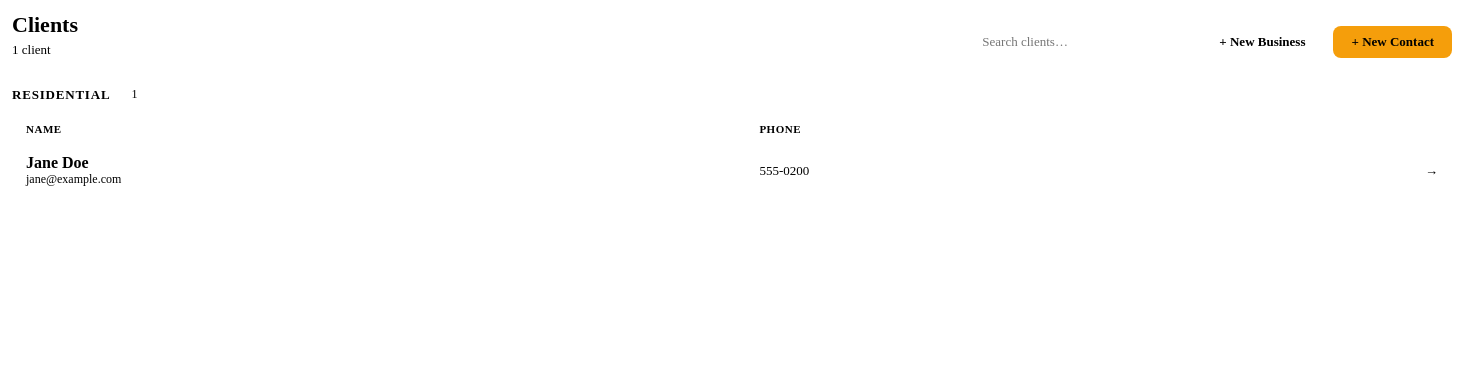
clicking a residential row navigates to its detail page
The image size is (1464, 369).
Click the text "Jane Doe": (57, 162) left=26, top=154, right=89, bottom=171
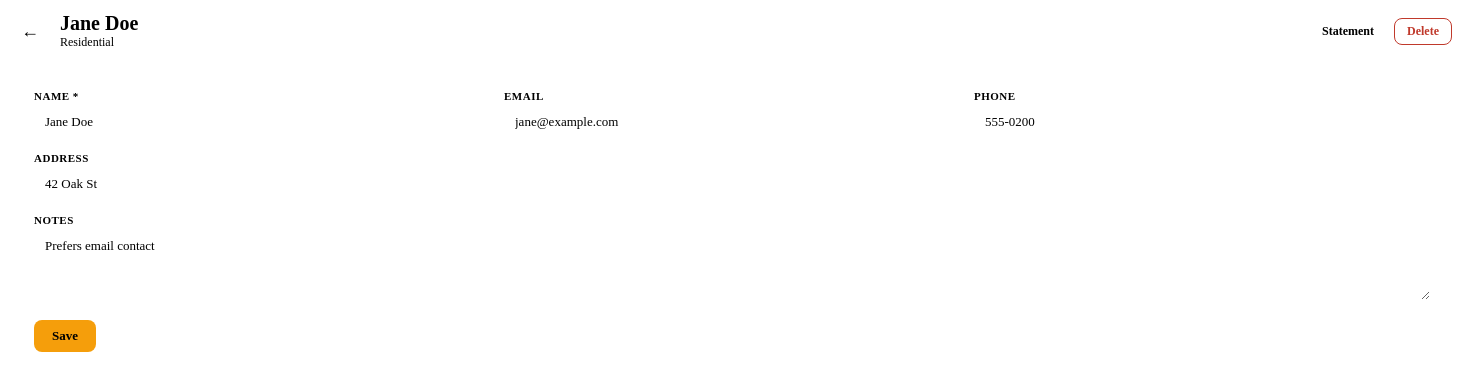
Expected: the field showing "42 Oak St" below "Address" is shown, left=34, top=168, right=1430, bottom=200
